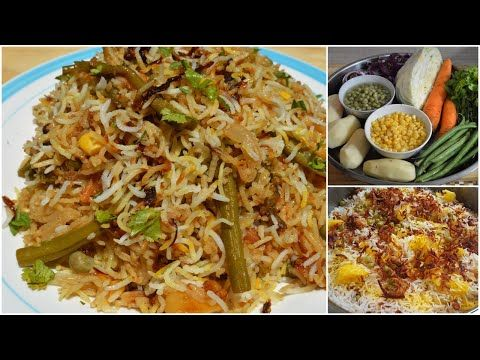Biryani: (26, 52, 328, 296), (335, 192, 475, 309)
